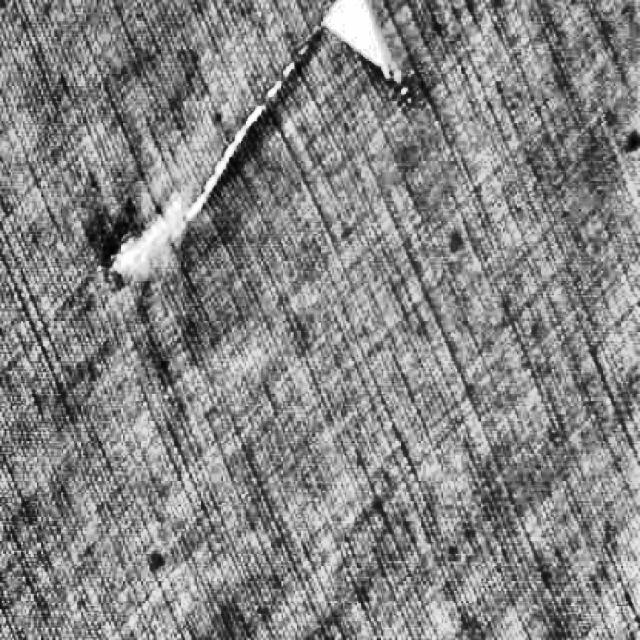hole: (102, 27, 319, 291), (318, 0, 420, 114)
